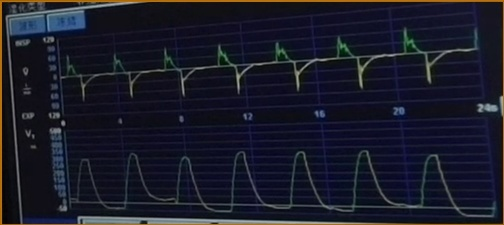Accumulation Flow: (65, 31, 476, 102)
Volume: (73, 148, 488, 215)
